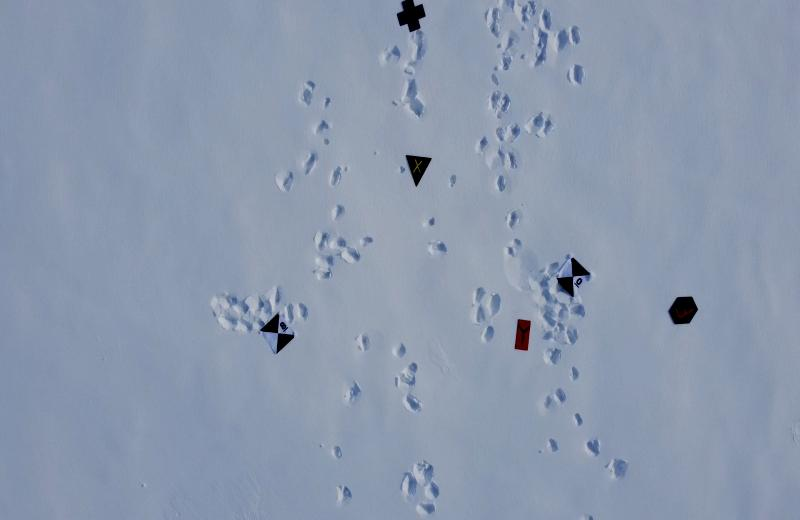Cross: (392, 0, 428, 35)
Hexagon: (666, 290, 700, 330)
Rectangle: (512, 316, 534, 354)
Triangle: (403, 151, 435, 190)
